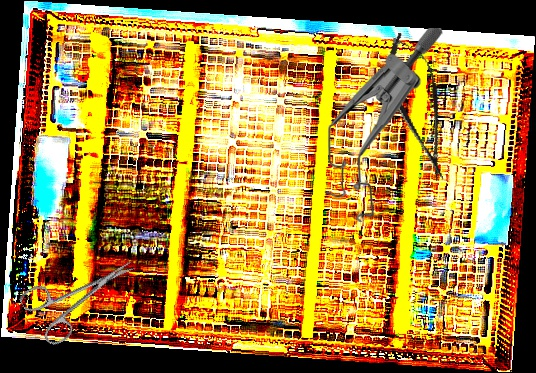Iris Scissors: (17, 239, 149, 351)
Micro Scissor: (376, 27, 463, 187)
Speculum: (322, 26, 445, 224)
